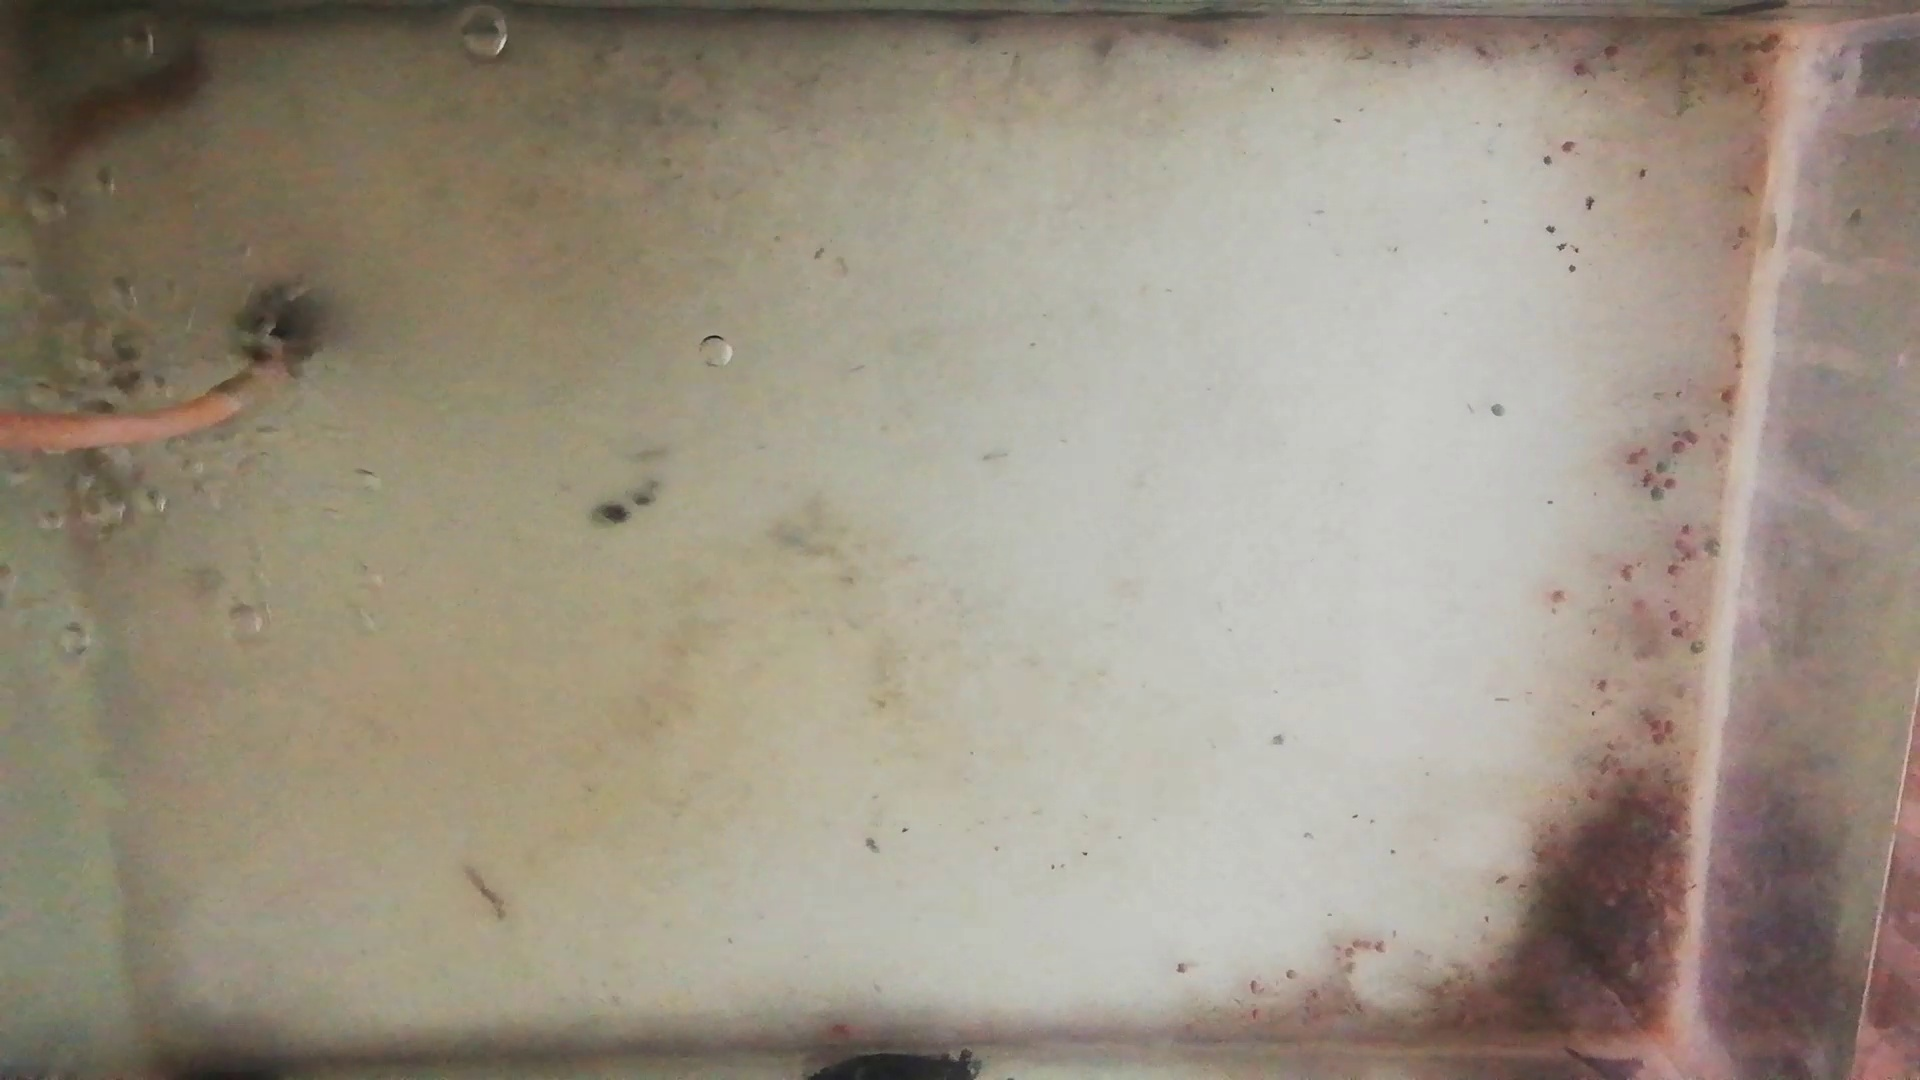fish: (30, 51, 215, 186), (66, 359, 138, 559)
